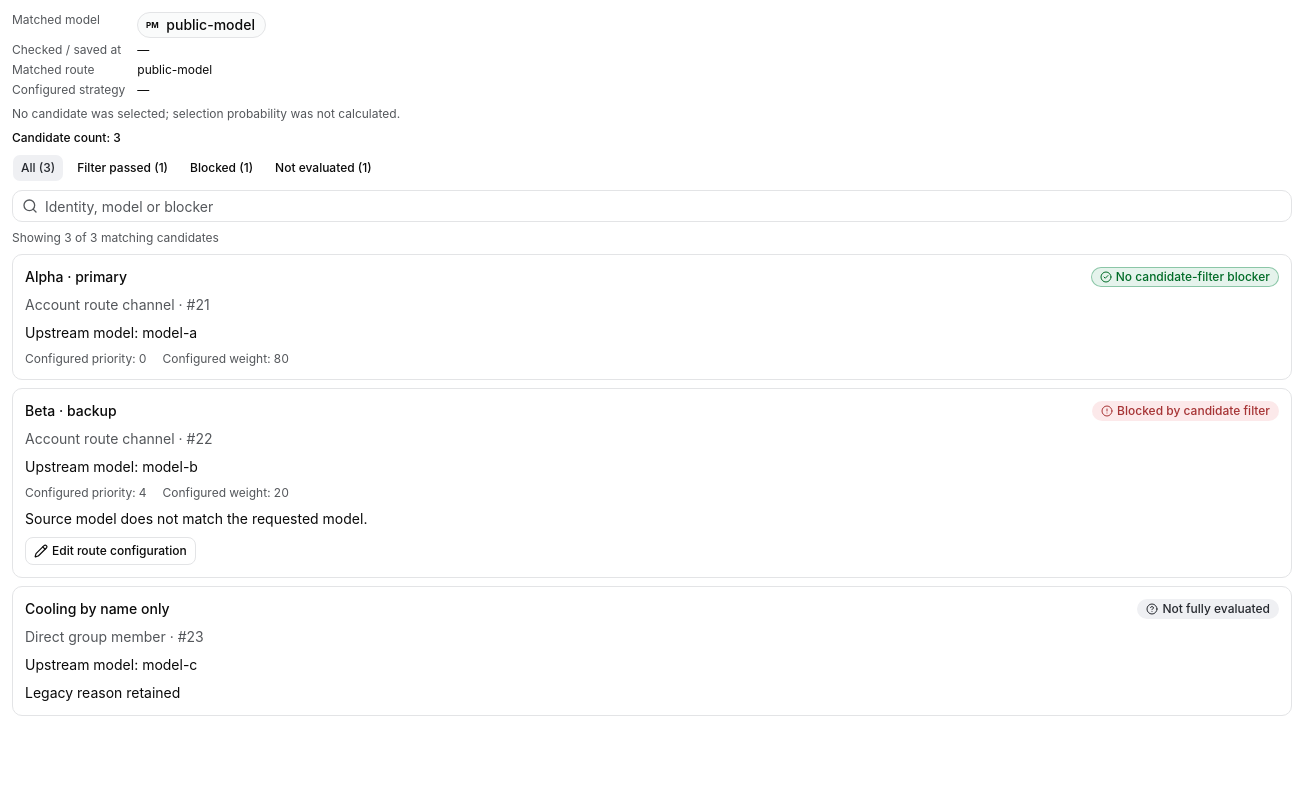
Test: diagnostic candidate inventory › searches translated reasons, exact identities and models over all candidates, and resets an empty filtered view
Type "does not match" into the field named "Find candidates" at (652, 206), box [12,190,1292,222]
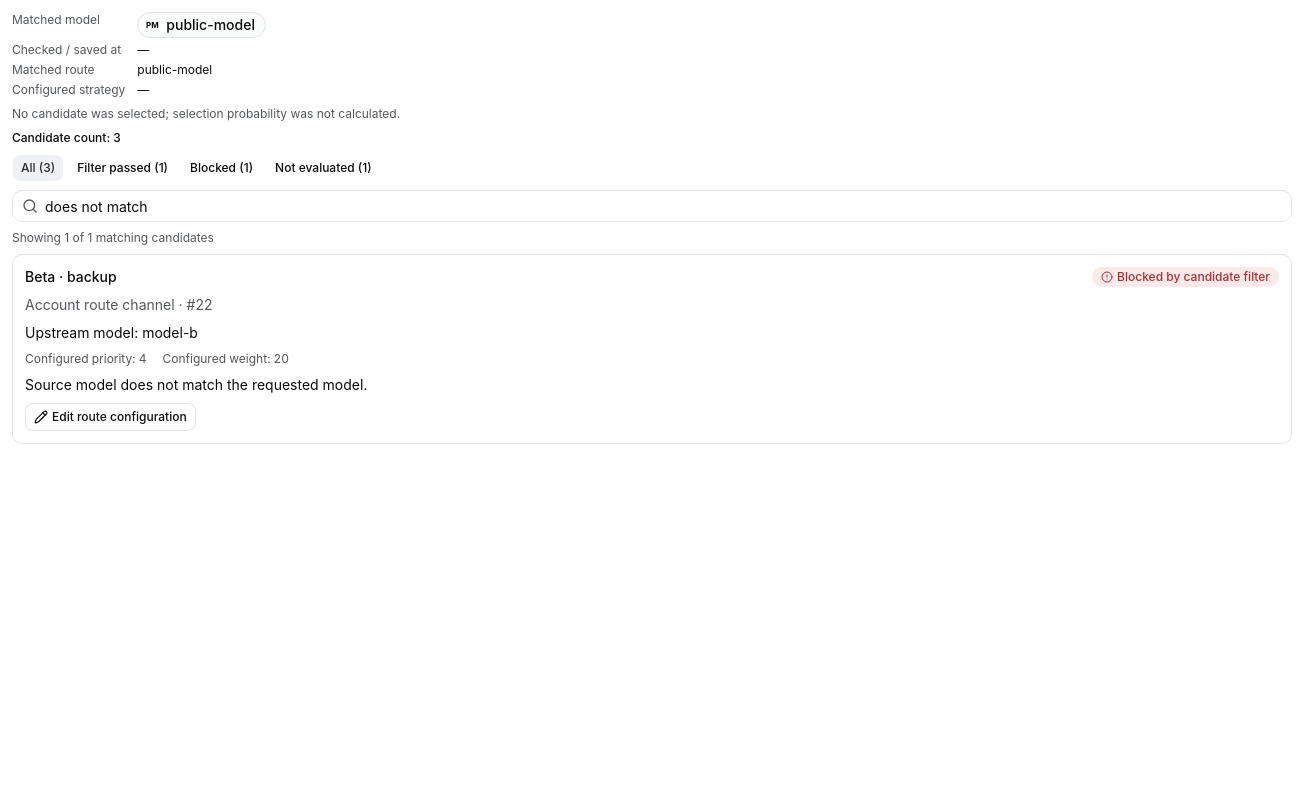
Expected: the text "Beta · backup" is shown, [25,267,117,287]
Now the text "Alpha · primary" is gone
Replace the text in the field named "Find candidates" with "21" at (652, 206), box [12,190,1292,222]
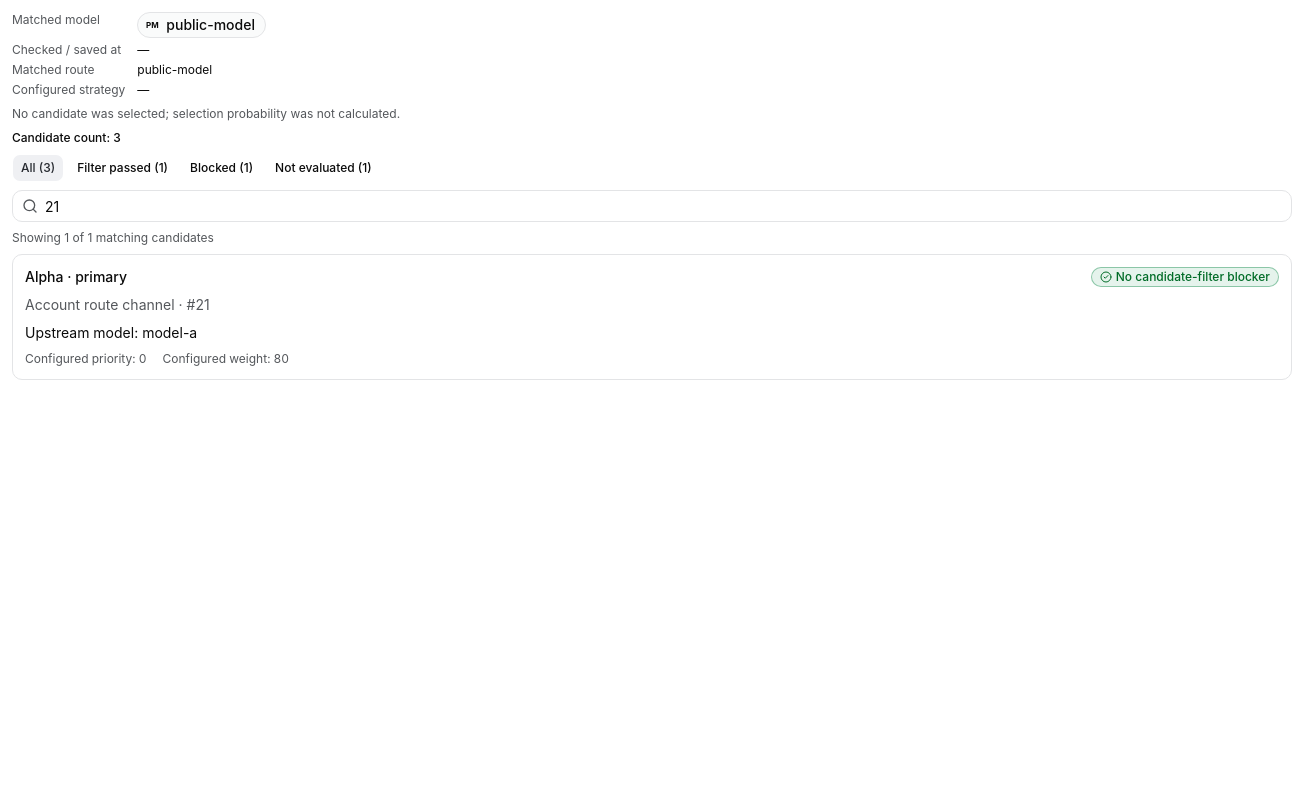
Now the text "Alpha · primary" is shown, box [25,267,127,287]
Replace the text in the field named "Find candidates" with "model-c" at (652, 206), box [12,190,1292,222]
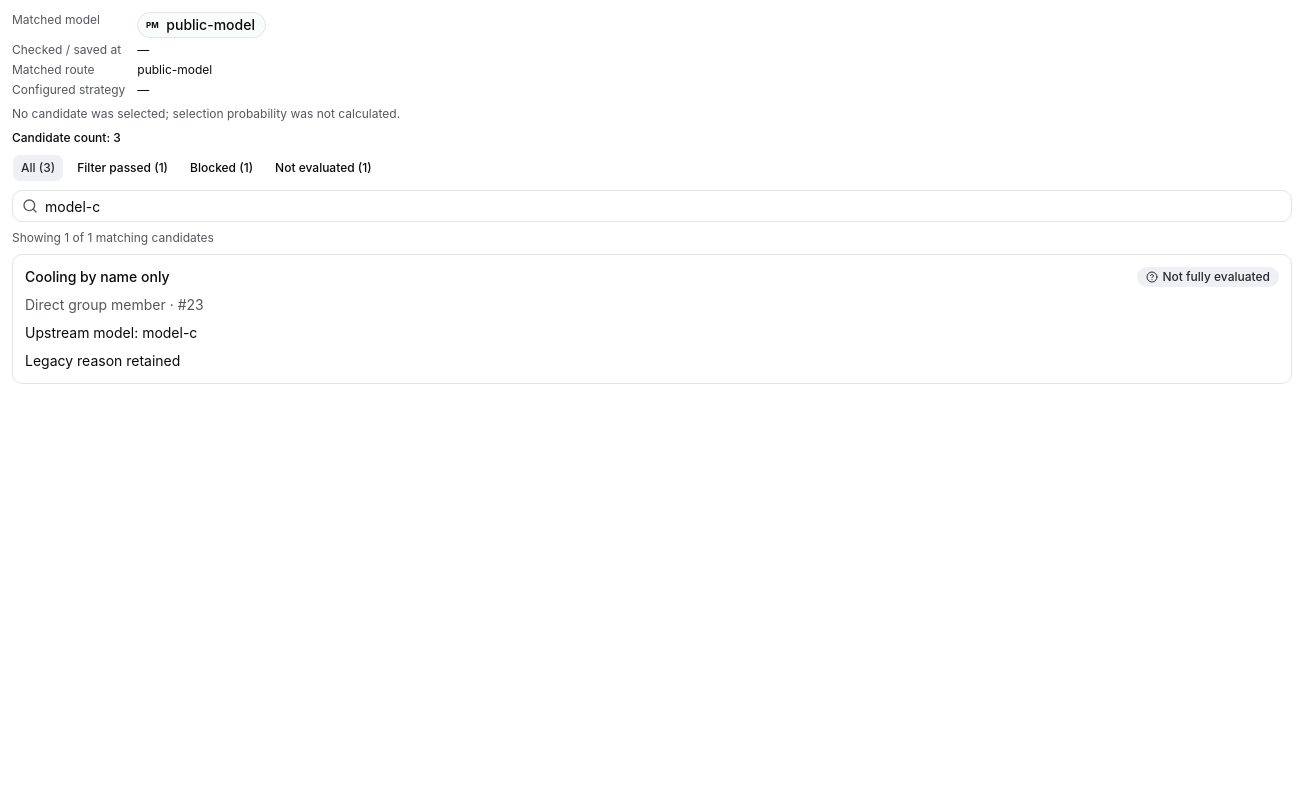
Now the text "Cooling by name only" is shown, box [25,267,170,287]
Replace the text in the field named "Find candidates" with "no-such-candidate" at (652, 206), box [12,190,1292,222]
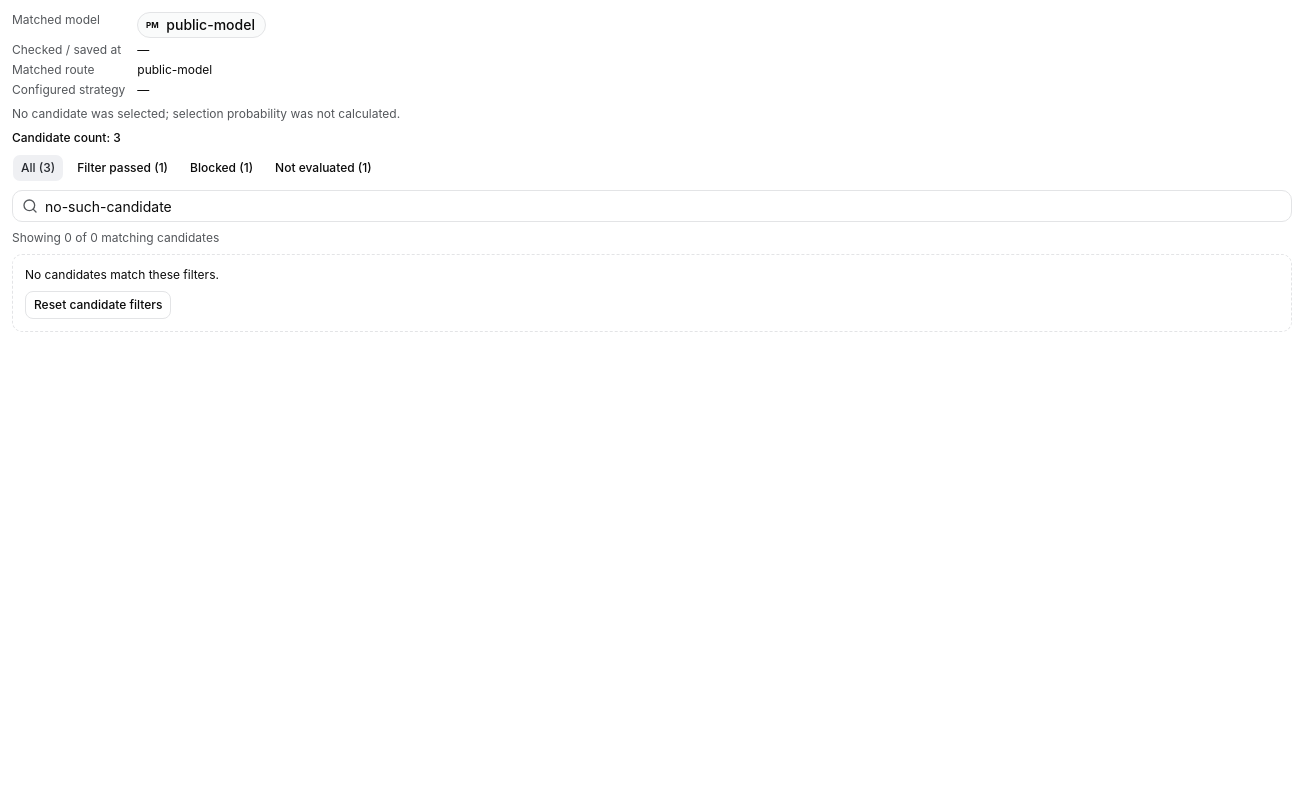
Now the text "No candidates match these filters." is shown, box [25,267,219,282]
Click the button "Reset candidate filters" at (98, 305), box [25,291,171,319]
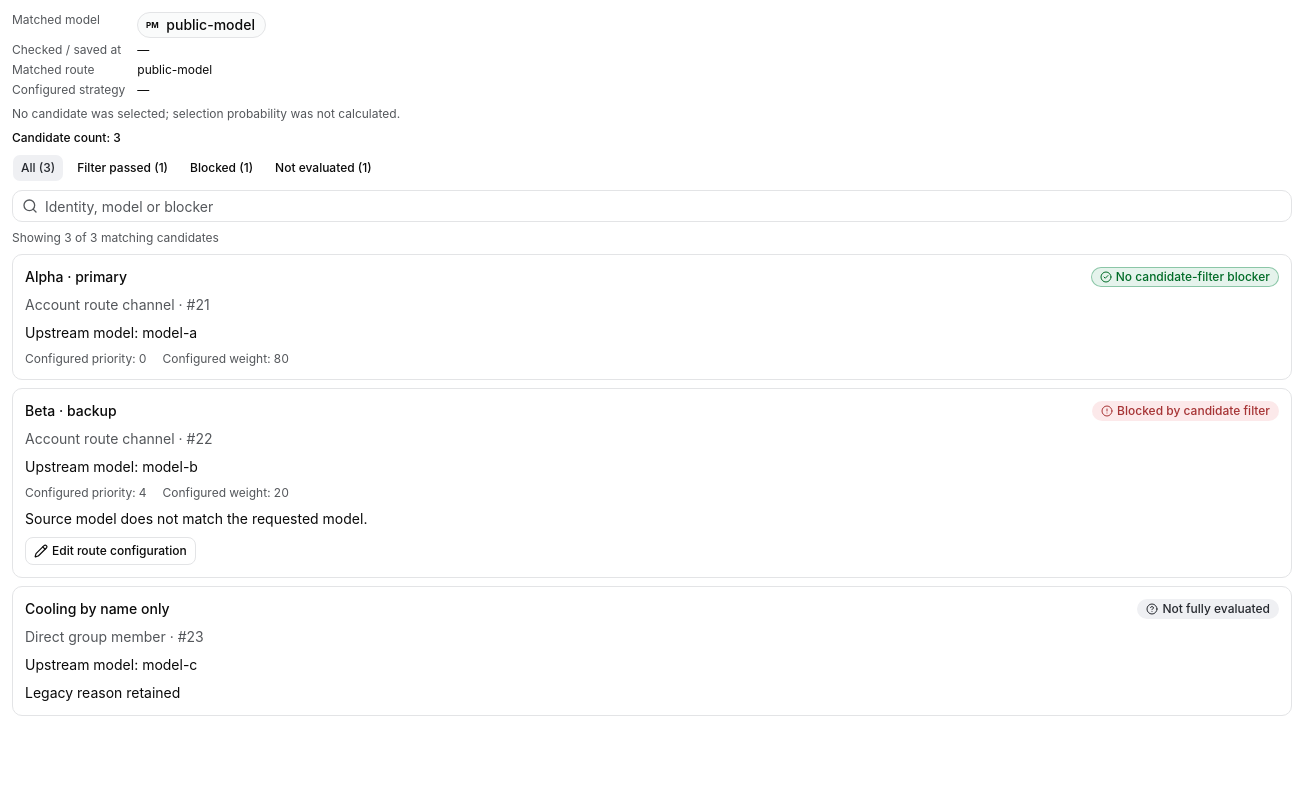
Now the number of list items is 3, box [12,254,1292,380]; [12,388,1292,578]; [12,586,1292,716]
